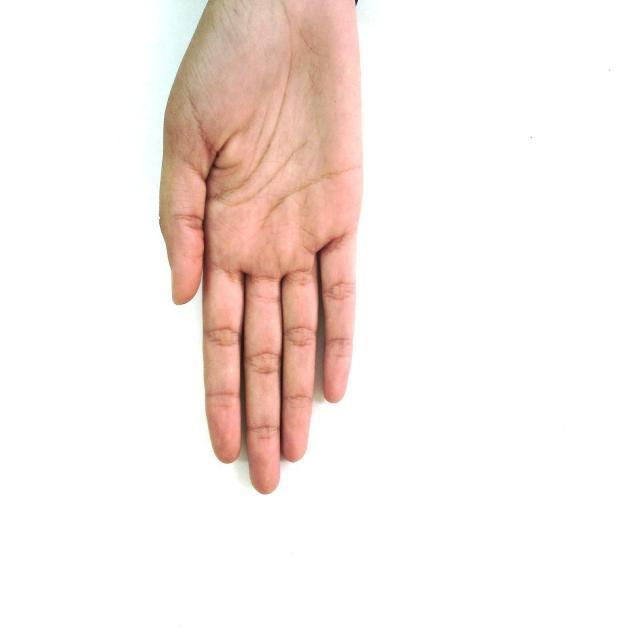hand: (158, 0, 364, 494)
